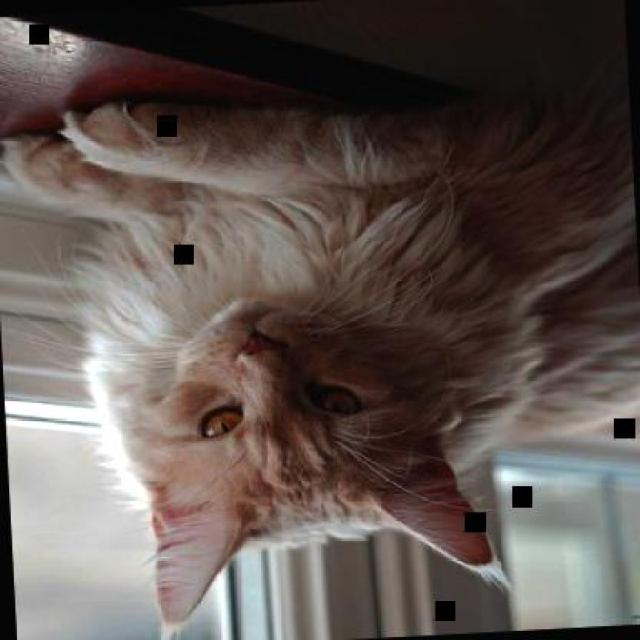cat: (1, 76, 638, 638)
